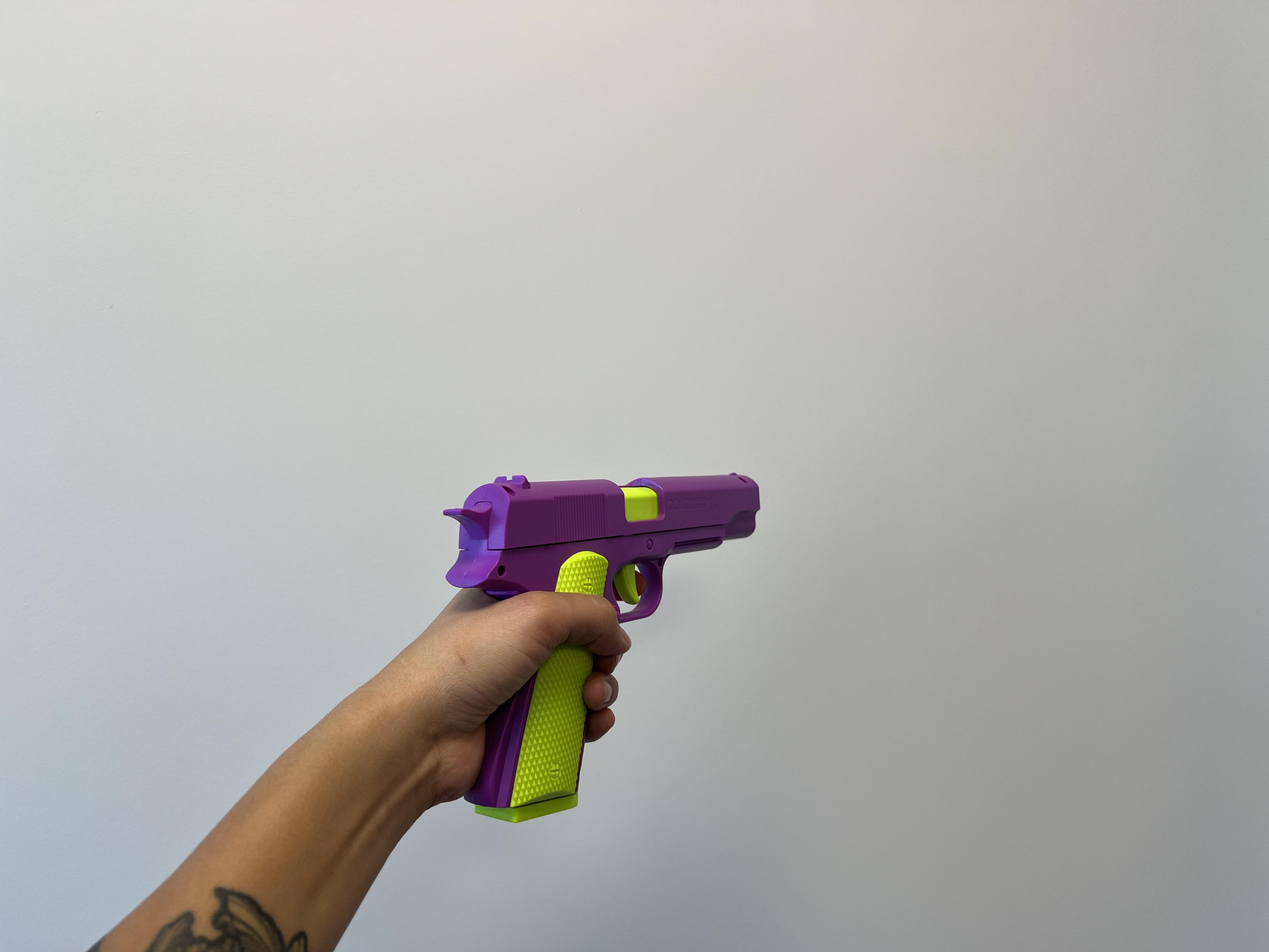Knife: (80, 571, 644, 952), (442, 453, 766, 828), (354, 573, 636, 815)
